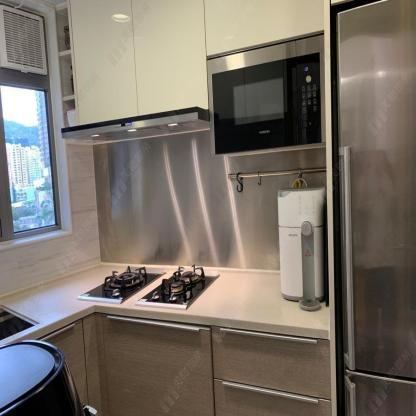Exhaust Fan: (0, 3, 49, 77)
Exhaust Hood: (61, 107, 210, 145)
Fridge: (334, 0, 416, 415)
Microwave: (208, 32, 327, 153)
Stove: (47, 259, 229, 318)
